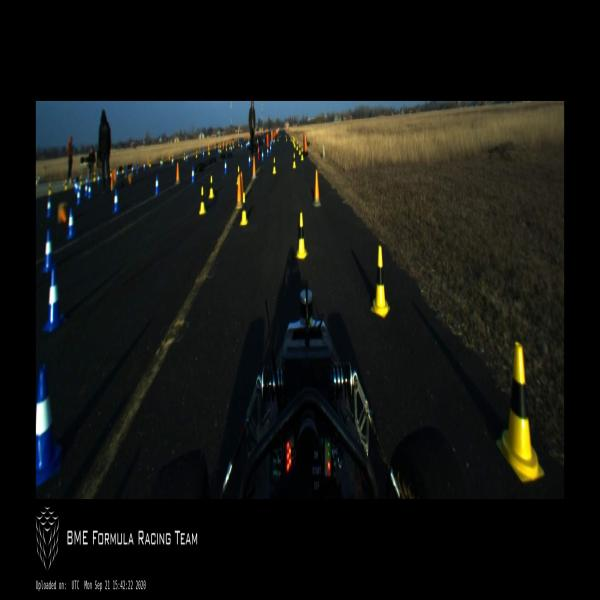blue_cone: (36, 364, 61, 486), (42, 269, 64, 330), (43, 231, 54, 271), (67, 208, 76, 238), (112, 189, 120, 211), (46, 198, 52, 216), (155, 174, 159, 193), (191, 166, 195, 182), (88, 184, 92, 197), (77, 190, 80, 204), (224, 159, 227, 173), (248, 154, 251, 167), (75, 182, 78, 194), (85, 184, 88, 195), (78, 183, 81, 194), (97, 174, 100, 184), (74, 180, 76, 193), (262, 150, 264, 162), (38, 174, 40, 185), (270, 143, 272, 153), (132, 165, 134, 174), (160, 159, 162, 168), (144, 162, 146, 170), (186, 154, 188, 162), (116, 170, 118, 178), (218, 148, 220, 155), (202, 151, 204, 158), (263, 137, 265, 144), (172, 157, 174, 164), (248, 140, 250, 146), (247, 140, 249, 146), (270, 140, 272, 146), (241, 141, 242, 150), (267, 148, 268, 156), (246, 142, 247, 150), (231, 146, 232, 152), (273, 139, 274, 145), (274, 139, 275, 144)
yellow_cone: (496, 342, 545, 480), (371, 246, 390, 317), (295, 213, 308, 258), (240, 193, 248, 224), (199, 187, 206, 213), (208, 175, 214, 197), (236, 166, 240, 184), (272, 158, 276, 173), (293, 153, 296, 168), (48, 183, 52, 194), (300, 149, 303, 160), (109, 166, 112, 176), (93, 172, 96, 181), (65, 179, 67, 190), (80, 174, 82, 185), (299, 144, 301, 154), (296, 141, 298, 150), (122, 165, 124, 173), (294, 140, 296, 148), (149, 160, 151, 167), (36, 174, 37, 187), (208, 149, 210, 155), (226, 145, 228, 151), (229, 144, 231, 150), (238, 141, 240, 147), (277, 136, 279, 142), (290, 136, 292, 142), (196, 150, 197, 158), (220, 146, 221, 153), (293, 137, 294, 144), (162, 157, 163, 164), (172, 155, 173, 162), (184, 153, 185, 159), (233, 142, 234, 148), (286, 136, 287, 142), (292, 136, 293, 142), (294, 140, 294, 145)
